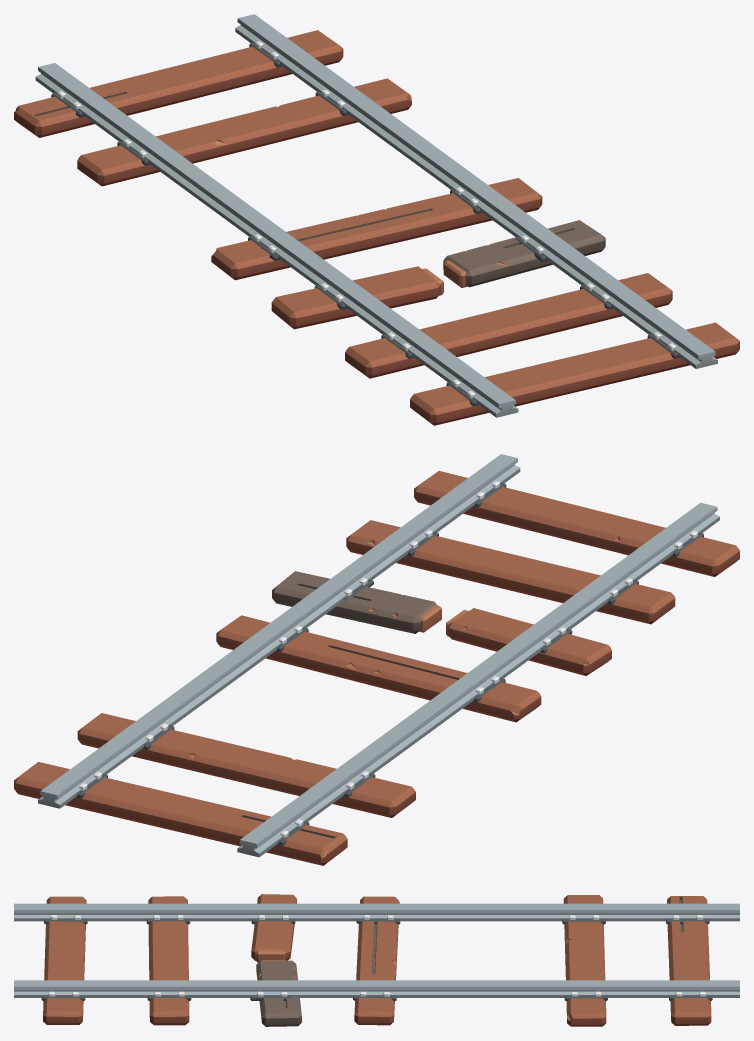
Rendered from rail_track_straight.glb.
3 views of the same model, one above another, from view 1: azimuth 30°, elevation 25°; view 2: azimuth 150°, elevation 25°; view 3: azimuth 270°, elevation 25° (orthographic). The views are drawn at different scales.
Visible parts, largest first — view 1: rail_track_straight; view 2: rail_track_straight; view 3: rail_track_straight.
Part boxes in pixels (x1,y1,x2,y2): rail_track_straight: [14, 14, 739, 425]; rail_track_straight: [14, 454, 739, 865]; rail_track_straight: [14, 894, 739, 1026].
Bounding box in the file's own units: 1.6 × 0.1372 × 4.
1 material, 1 textured.
